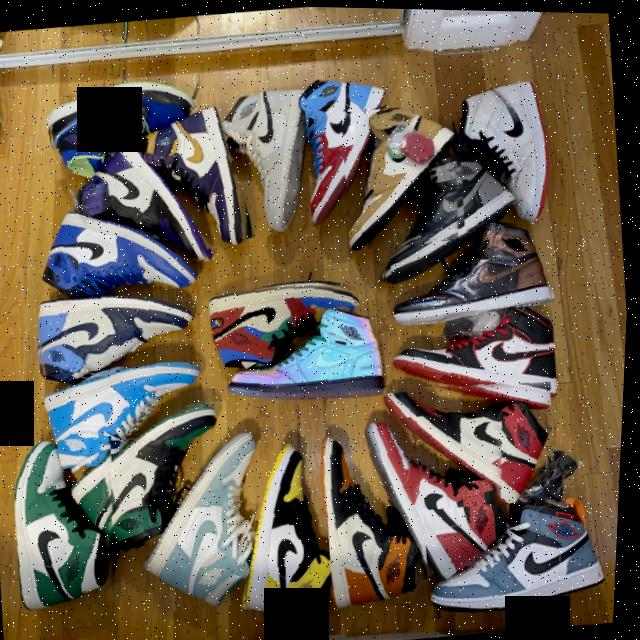shoe: (361, 404, 523, 586), (381, 368, 566, 514), (135, 428, 280, 614), (68, 398, 234, 555), (424, 489, 619, 618), (317, 426, 439, 611), (9, 433, 132, 614), (370, 148, 528, 286), (228, 436, 345, 622), (68, 134, 219, 274), (391, 299, 565, 418), (337, 99, 470, 252), (42, 358, 214, 474), (220, 296, 393, 410), (387, 215, 563, 327), (138, 100, 258, 254), (37, 195, 204, 303), (33, 283, 203, 389), (42, 72, 203, 182), (292, 70, 402, 229), (451, 77, 560, 230), (215, 83, 320, 240), (206, 271, 369, 371)
